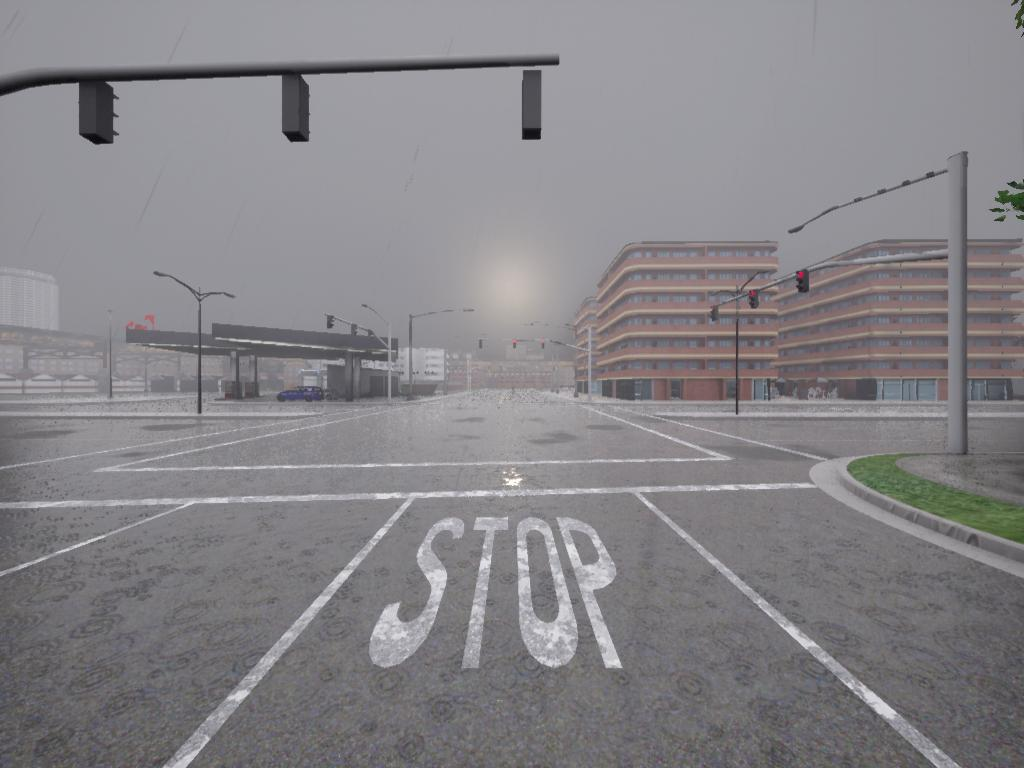traffic_light: (78, 84, 120, 146), (283, 77, 314, 150), (519, 70, 547, 140), (799, 271, 813, 295), (750, 288, 761, 313), (327, 315, 336, 333), (711, 305, 719, 325), (351, 324, 359, 342), (368, 328, 375, 346), (512, 341, 517, 354), (479, 339, 484, 351), (542, 341, 546, 351)
